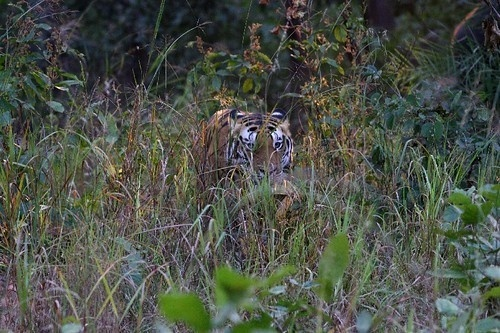tigre: (190, 104, 301, 223)
